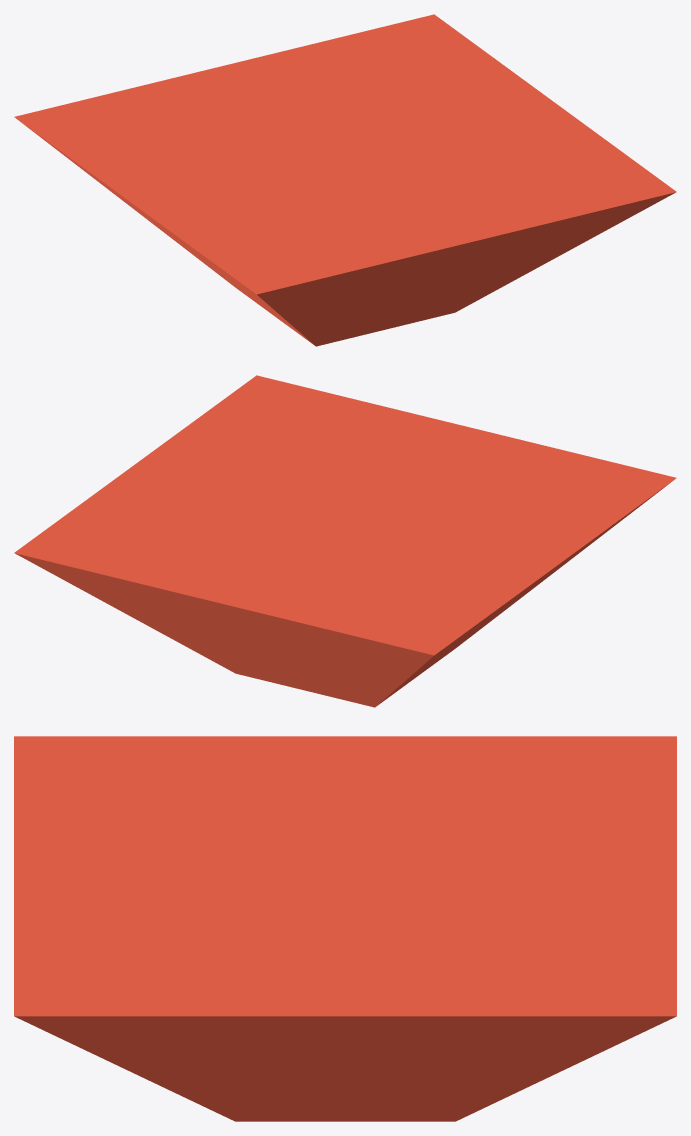
Rendered from platform.glb.
The picture shows the model from 3 angles, top to bottom: view 1: azimuth 30°, elevation 25°; view 2: azimuth 150°, elevation 25°; view 3: azimuth 270°, elevation 25°; orthographic projection. The views are drawn at different scales.
Parts seen in each view (by area): view 1: Float; view 2: Float; view 3: Float.
Boxes of the visible parts, bbox=[...] form: Float: bbox=[14, 14, 676, 346]; Float: bbox=[14, 375, 676, 707]; Float: bbox=[14, 736, 676, 1121].
Bounding box in the file's own units: 4.37 × 1.45 × 4.37.
